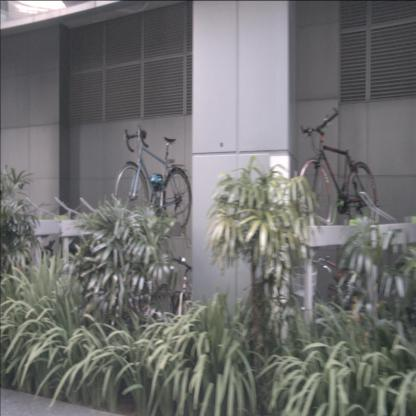vehicle-bicycle: (297, 106, 378, 236), (114, 126, 192, 232), (289, 246, 357, 362), (172, 256, 209, 348)
